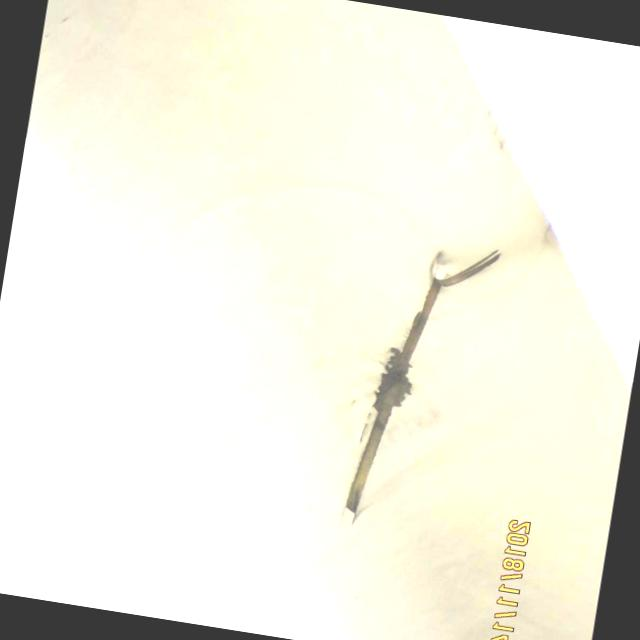crack: (340, 227, 498, 530)
